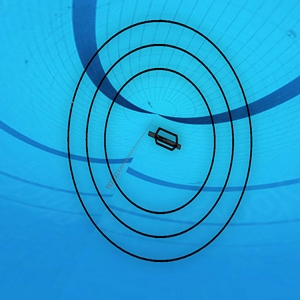circle: (67, 19, 252, 267)
submarine: (149, 127, 182, 151)
